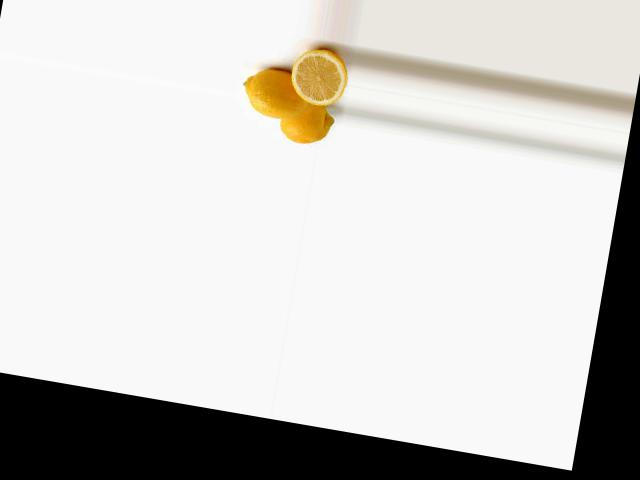lemon: (272, 96, 340, 150)
